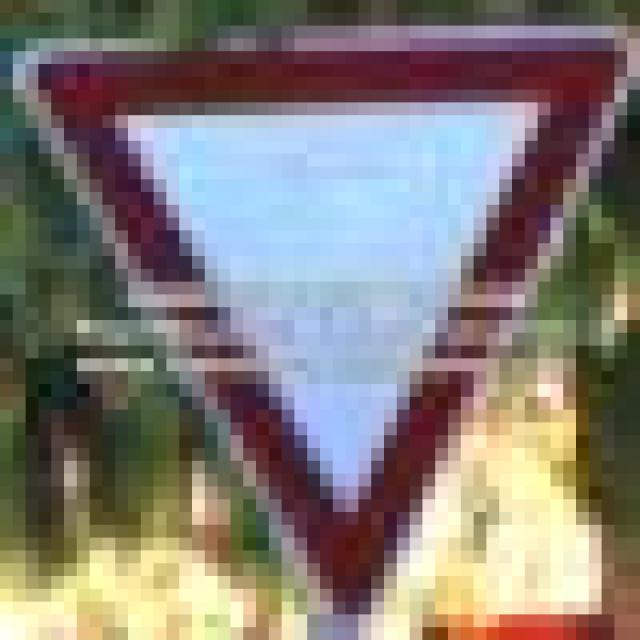gap_in_median: (0, 25, 614, 614)
